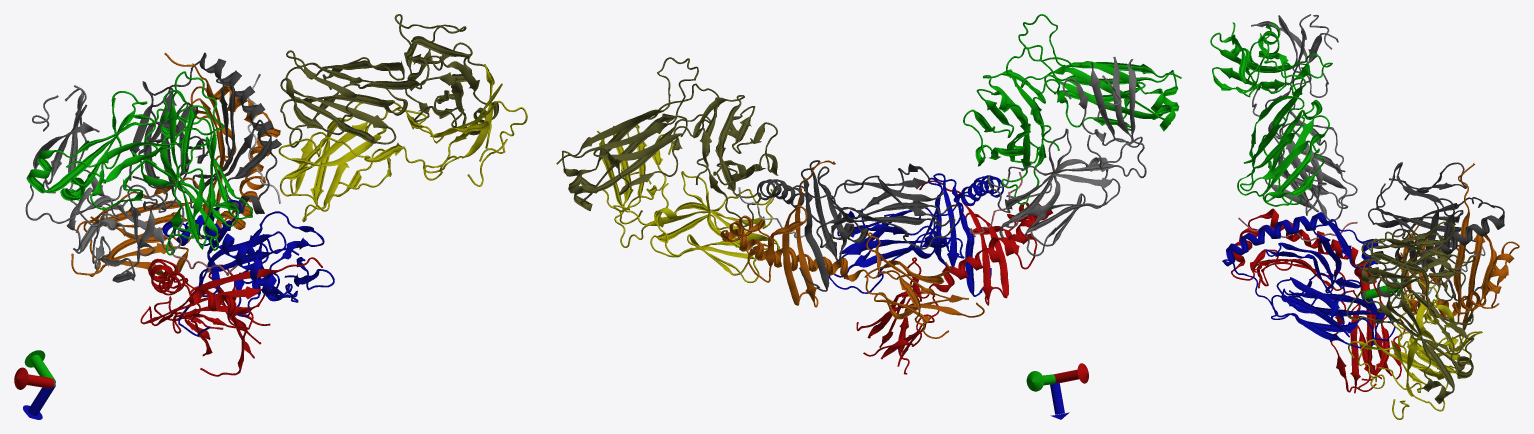
File: gluten3.obj
3 views of the same model, side by side, from view 1: azimuth 30°, elevation 25°; view 2: azimuth 150°, elevation 25°; view 3: azimuth 270°, elevation 25° (orthographic). The views are drawn at different scales.
Parts seen in each view (by area): view 1: vmd_mol0_rep0, vmd_axes; view 2: vmd_mol0_rep0, vmd_axes; view 3: vmd_mol0_rep0, vmd_axes.
Part boxes in pixels (bbox=[...]): vmd_mol0_rep0: bbox=[25, 14, 527, 376]; vmd_axes: bbox=[14, 350, 55, 419]; vmd_mol0_rep0: bbox=[556, 14, 1181, 374]; vmd_axes: bbox=[1026, 363, 1088, 419]; vmd_mol0_rep0: bbox=[1210, 14, 1519, 419]; vmd_axes: bbox=[1354, 266, 1400, 323].
Bounding box in the file's own units: 3.63 × 2.28 × 2.
